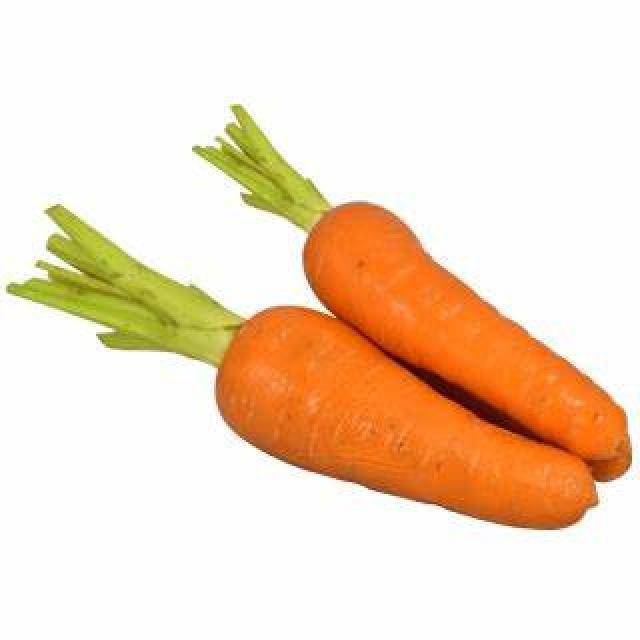Carrot: (211, 302, 600, 544), (303, 206, 630, 482)
